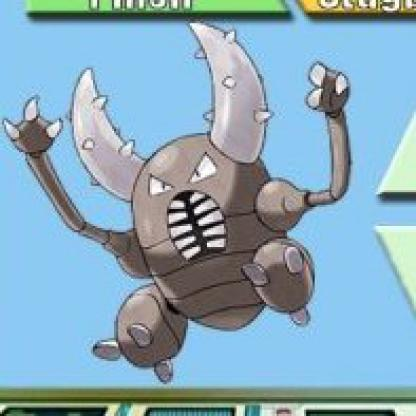Pinsir: (6, 27, 383, 387)
